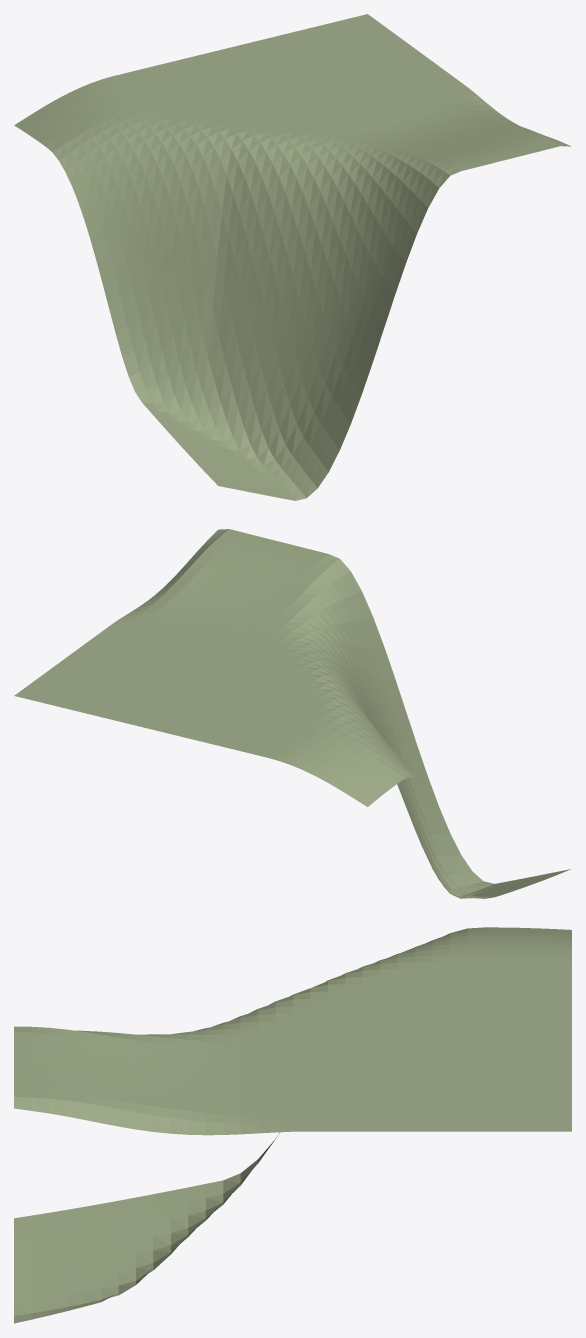
File: alpine-11-3.glb
The picture shows the model from 3 angles, top to bottom: view 1: azimuth 30°, elevation 25°; view 2: azimuth 150°, elevation 25°; view 3: azimuth 270°, elevation 25°; orthographic projection. The views are drawn at different scales.
Parts seen in each view (by area): view 1: alpine-11-3; view 2: alpine-11-3; view 3: alpine-11-3.
Boxes of the visible parts, box(x1,y1,x2,y2) form: alpine-11-3: box(14, 14, 571, 500); alpine-11-3: box(14, 529, 570, 898); alpine-11-3: box(14, 927, 571, 1323).
Bounding box in the file's own units: 256 × 201 × 256.
